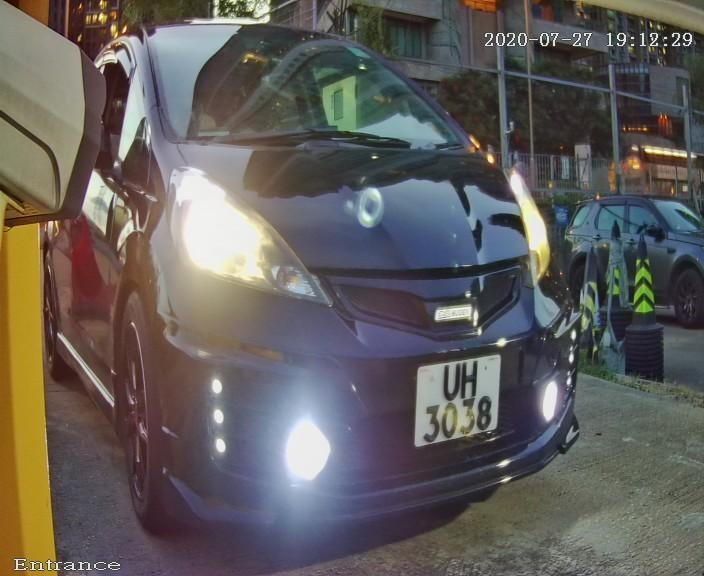privatecar: (63, 8, 604, 556)
